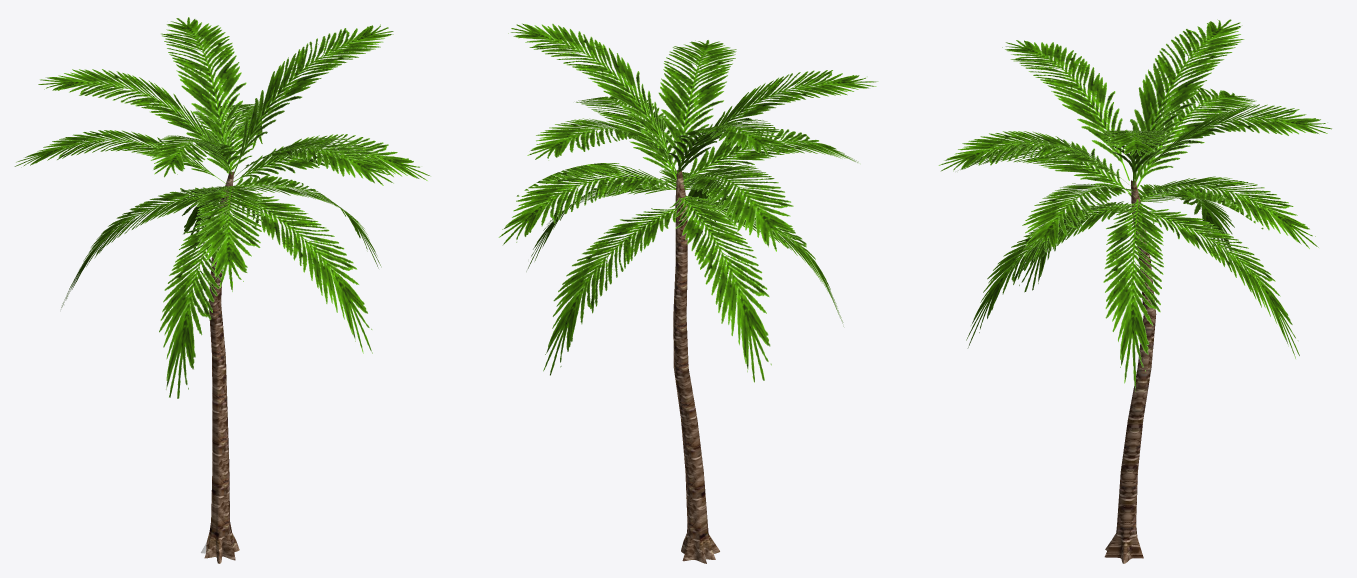
Rendered from palmtree.dae.
The picture shows the model from 3 angles, left to right: view 1: azimuth 30°, elevation 25°; view 2: azimuth 150°, elevation 25°; view 3: azimuth 270°, elevation 25°; orthographic projection. The views are drawn at different scales.
Visible parts, largest first — view 1: palmtree2.dxf; view 2: palmtree2.dxf; view 3: palmtree2.dxf.
Part boxes in pixels (left/top/right/bottom): palmtree2.dxf: left=14, top=17, right=430, bottom=563; palmtree2.dxf: left=498, top=23, right=878, bottom=563; palmtree2.dxf: left=938, top=19, right=1331, bottom=563.
Bounding box in the file's own units: 3.54 × 3.64 × 4.58.
Materials: 3 (2 with a texture image).
